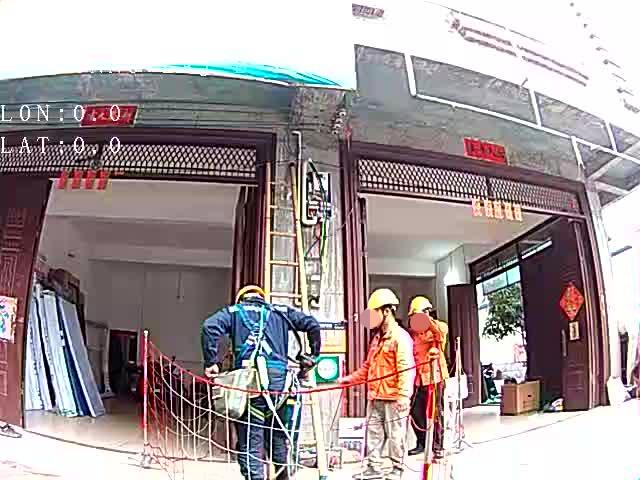halt: (367, 290, 403, 331), (409, 298, 438, 332), (238, 288, 270, 309)
inear: (381, 308, 396, 326)
